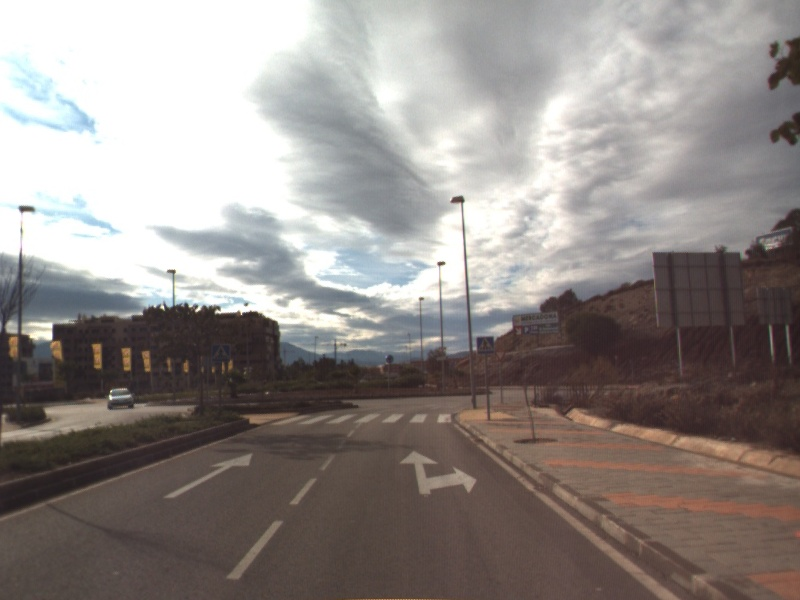STRAIGHT: (161, 451, 255, 500)
STRAIGHT_RIGHT: (397, 448, 478, 496)
